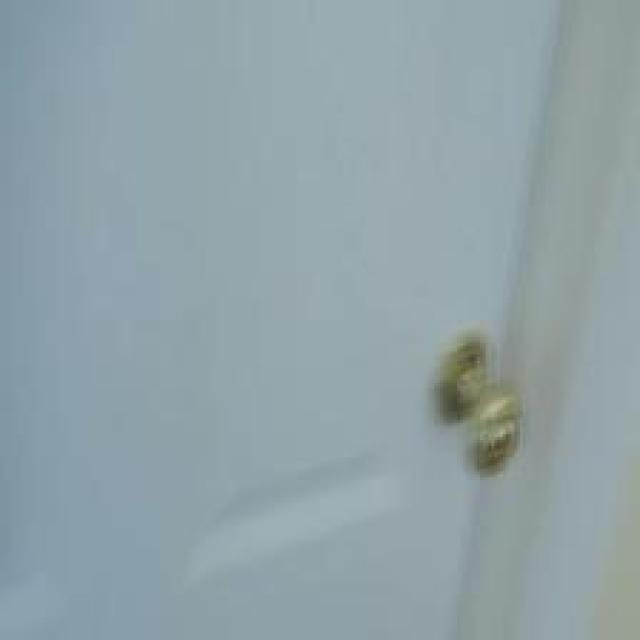other: (420, 336, 542, 471)
